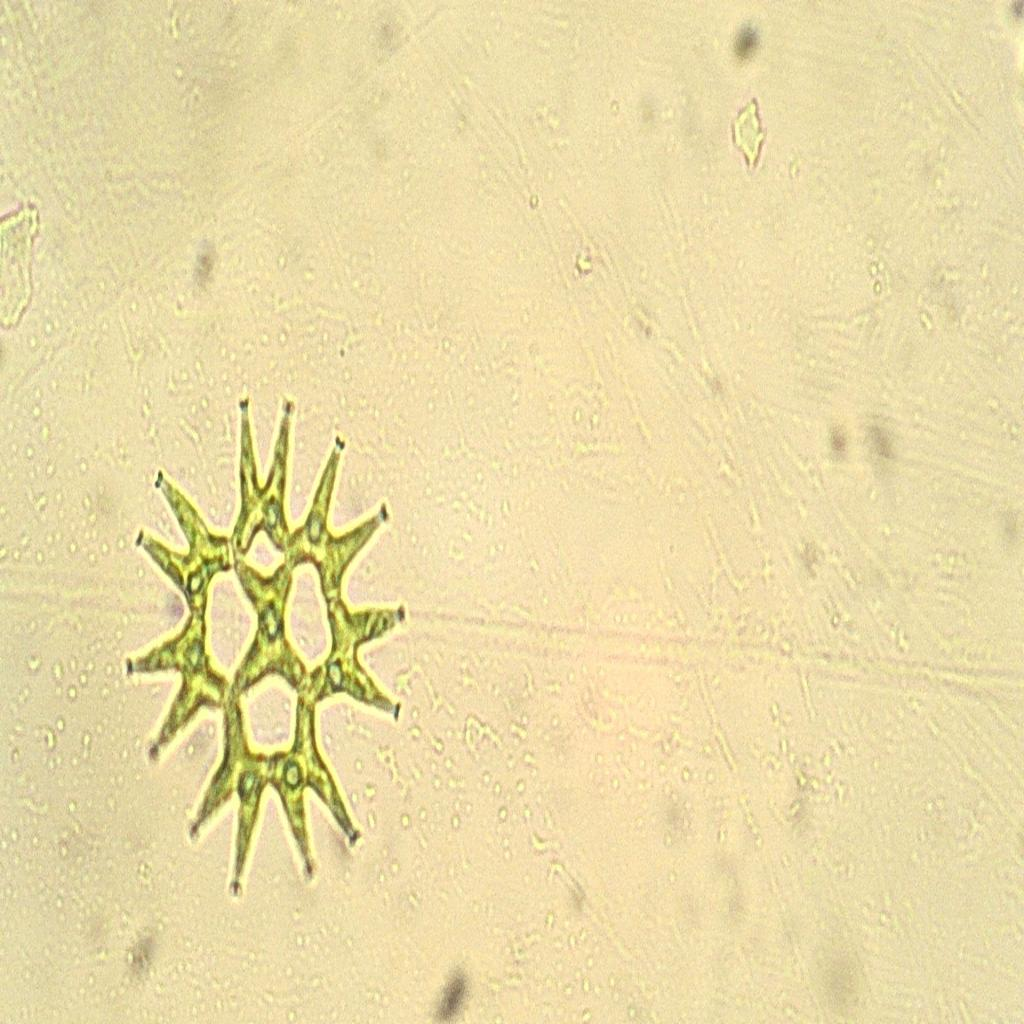Pediastrum_CTH: (116, 362, 418, 916)
